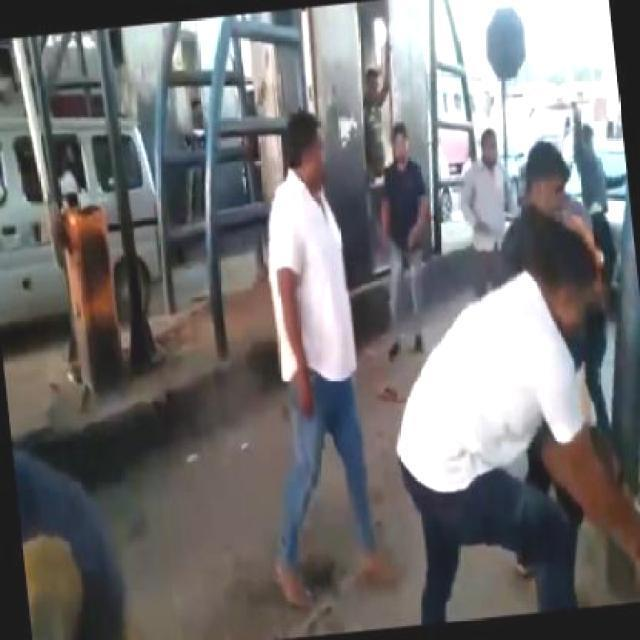non-fight: (244, 104, 400, 590), (366, 119, 442, 358)
